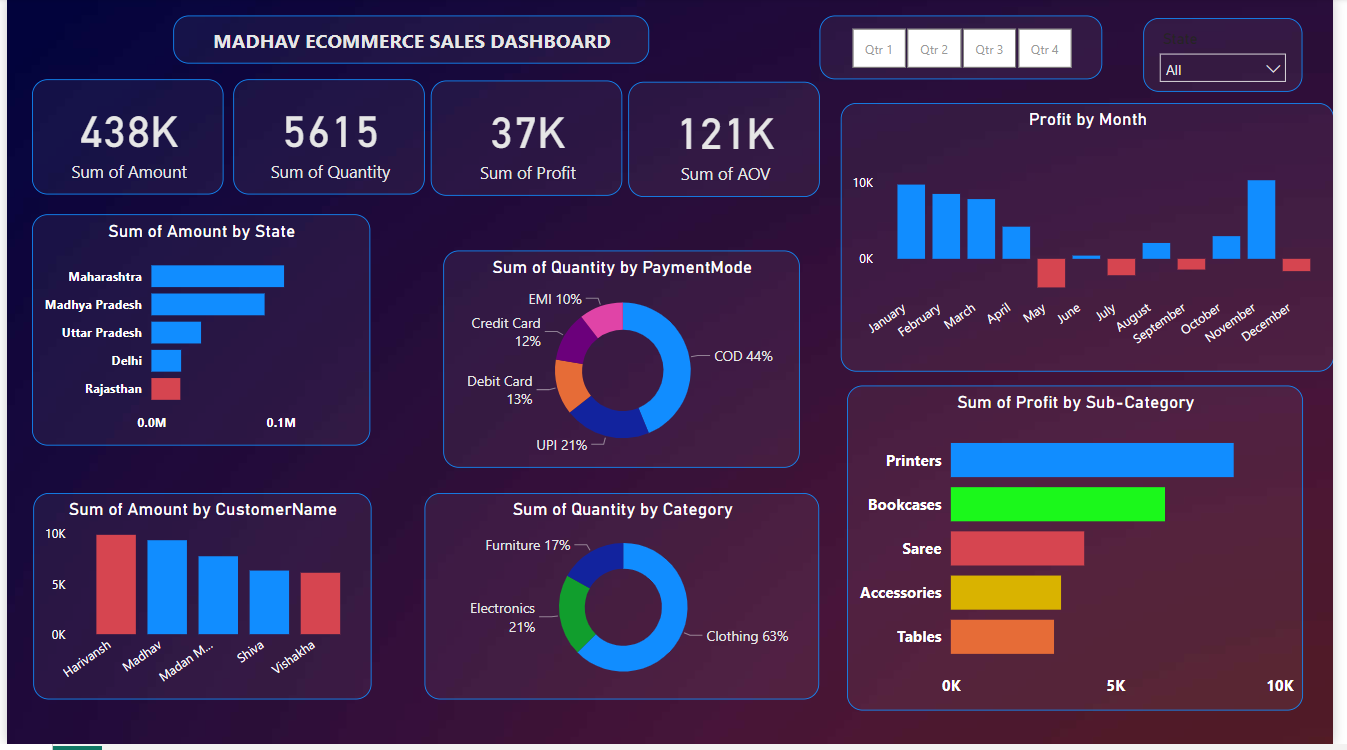

Layout of this report page (visuals, bound fields, positions):
{"tool":"powerbi","page":{"name":"Page 1","canvas":[1280,720],"ordinal":0},"visuals":[{"type":"textbox","box":[160.4,16.5,459.3,46.6],"z":0},{"type":"columnChart","title":"Profit by Month","fields":{"Category":["Orders.Order Date.Variation.Date Hierarchy.Month"],"Y":["Details.Profit"]},"box":[804.8,101.5,475.8,259.1],"z":1000},{"type":"barChart","fields":{"Category":["Details.Sub-Category"],"Y":["Details.Profit"]},"box":[810.3,374.3,440.1,314],"z":2000},{"type":"donutChart","fields":{"Category":["Details.Category"],"Y":["Details.Quantity"]},"box":[403.1,477.1,381.2,198.8],"z":3000},{"type":"donutChart","fields":{"Y":["Details.Quantity"],"Category":["Details.PaymentMode"]},"box":[420.9,244,344.1,209.8],"z":4000},{"type":"card","fields":{"Values":["Details.Amount"]},"box":[24.7,78.1,185.1,111.1],"z":5000},{"type":"card","fields":{"Values":["Details.Quantity"]},"box":[218,78.1,185.1,111.1],"z":6000},{"type":"card","fields":{"Values":["Details.Profit"]},"box":[408.6,79.5,185.1,111.1],"z":7000},{"type":"card","fields":{"Values":["Details.AOV"]},"box":[599.1,80.9,185.1,111.1],"z":8000},{"type":"barChart","fields":{"Category":["Orders.State"],"Y":["Details.Amount"]},"box":[24.7,208.4,326.3,223.5],"z":9000},{"type":"columnChart","fields":{"Category":["Orders.CustomerName"],"Y":["Details.Amount"]},"box":[25,477,326,199],"z":10000},{"type":"slicer","fields":{"Values":["Orders.Order Date.Variation.Date Hierarchy.Quarter"]},"box":[784.2,16.5,272.8,61.7],"z":11000},{"type":"slicer","fields":{"Values":["Orders.State"]},"box":[1096.8,19.2,153.6,71.3],"z":12000}]}

Visuals, with their boxes in screenshot pixels (x1, y1, x2, y2), scaled from the page's 1280x720 canvas onto the 1347x750 screenshot:
textbox: x1=169 y1=17 x2=652 y2=66
"Profit by Month" columnChart: x1=847 y1=106 x2=1346 y2=376
barChart - Details.Sub-Category x Details.Profit: x1=853 y1=390 x2=1316 y2=717
donutChart - Details.Category x Details.Quantity: x1=424 y1=497 x2=825 y2=704
donutChart - Details.Quantity x Details.PaymentMode: x1=443 y1=254 x2=805 y2=473
card - Details.Amount: x1=26 y1=81 x2=221 y2=197
card - Details.Quantity: x1=229 y1=81 x2=424 y2=197
card - Details.Profit: x1=430 y1=83 x2=625 y2=199
card - Details.AOV: x1=630 y1=84 x2=825 y2=200
barChart - Orders.State x Details.Amount: x1=26 y1=217 x2=369 y2=450
columnChart - Orders.CustomerName x Details.Amount: x1=26 y1=497 x2=369 y2=704
slicer - Orders.Order Date.Variation.Date Hierarchy.Quarter: x1=825 y1=17 x2=1112 y2=81
slicer - Orders.State: x1=1154 y1=20 x2=1316 y2=94
